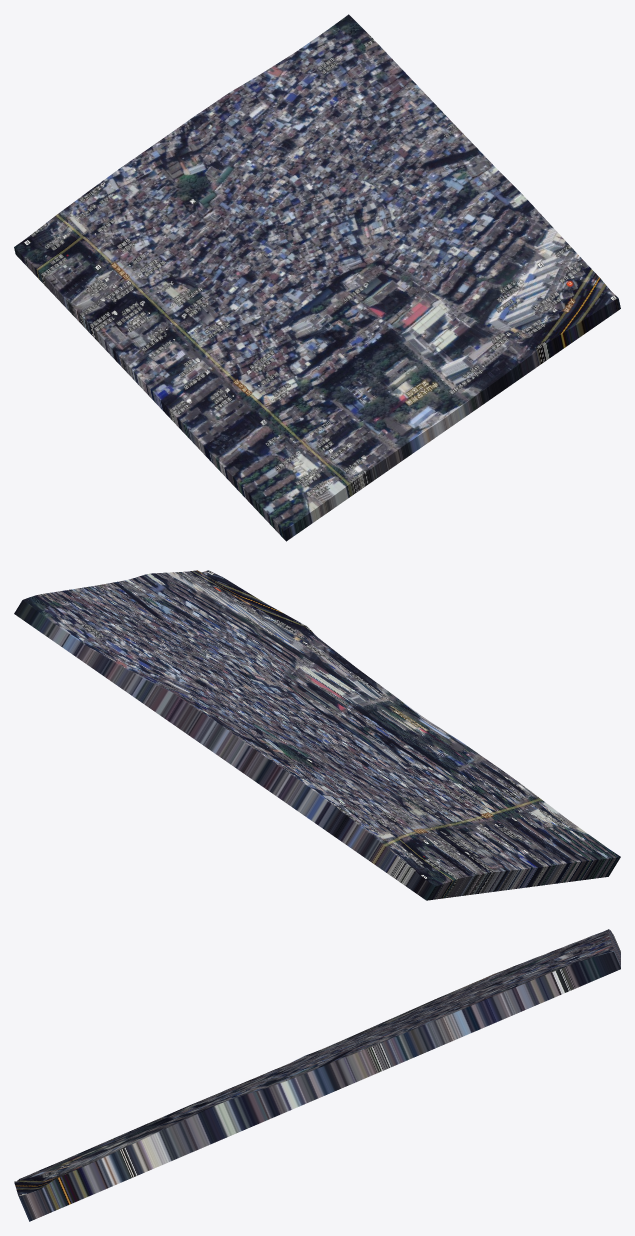
3 views of the same model, one above another, from view 1: azimuth 30°, elevation 25°; view 2: azimuth 150°, elevation 25°; view 3: azimuth 270°, elevation 25° (orthographic). The views are drawn at different scales.
Visible parts, largest first — view 1: 0_8_25; view 2: 0_8_25; view 3: 0_8_25.
Part boxes in pixels (x1,y1,x2,y2): 0_8_25: (14, 14, 620, 541); 0_8_25: (14, 570, 620, 900); 0_8_25: (14, 929, 620, 1221).
Bounding box in the file's own units: 599 × 443 × 556.
Materials: 1 (1 with a texture image).
